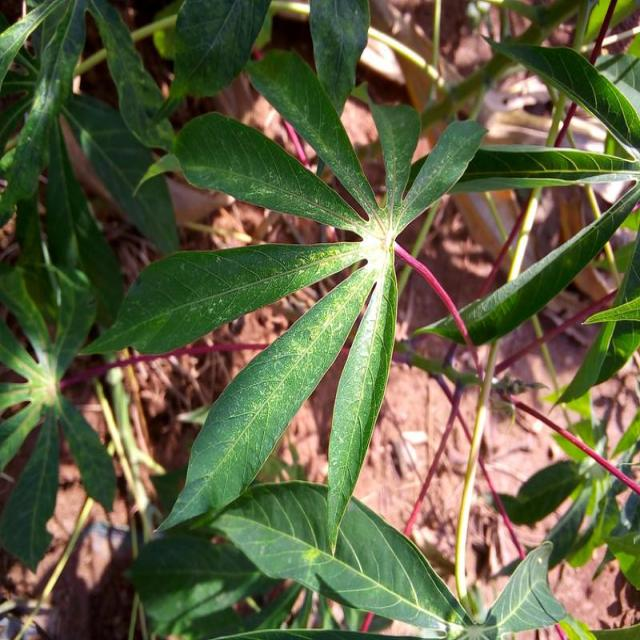cassava leaf: (153, 254, 378, 536)
